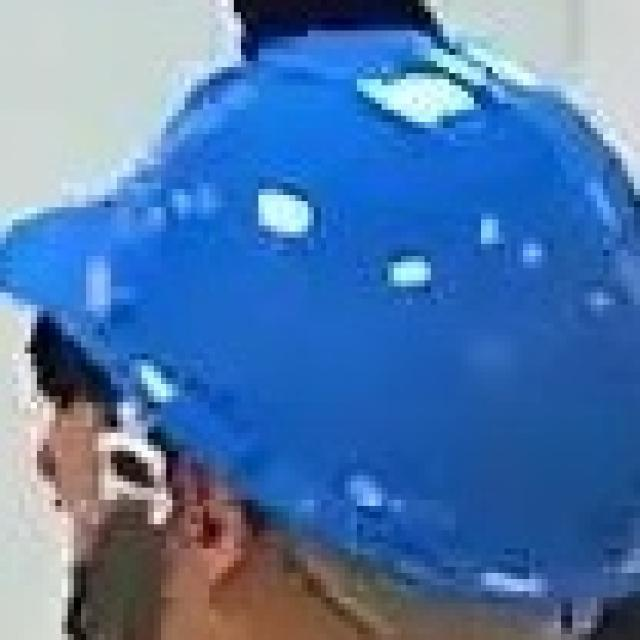Helmet: (0, 4, 637, 618)
